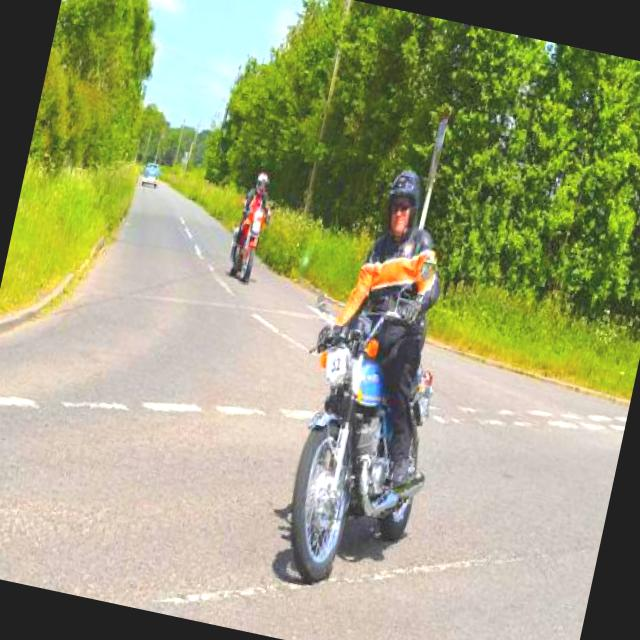Person: (298, 154, 466, 500), (228, 166, 278, 262)
